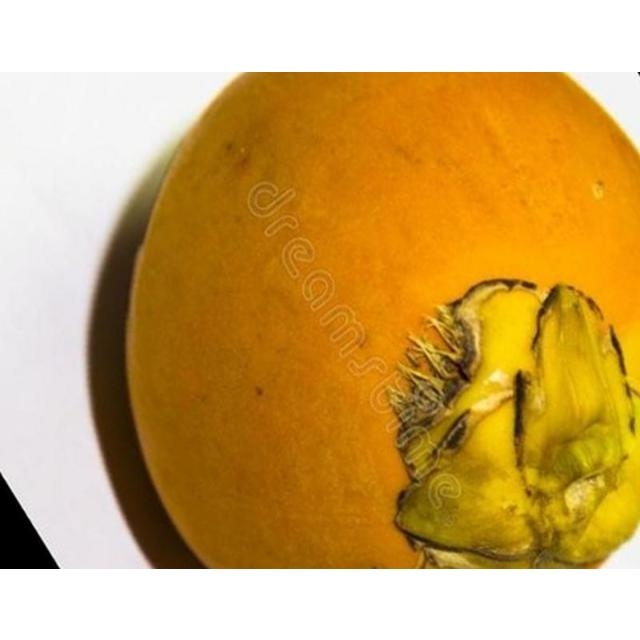good: (127, 71, 639, 568)
